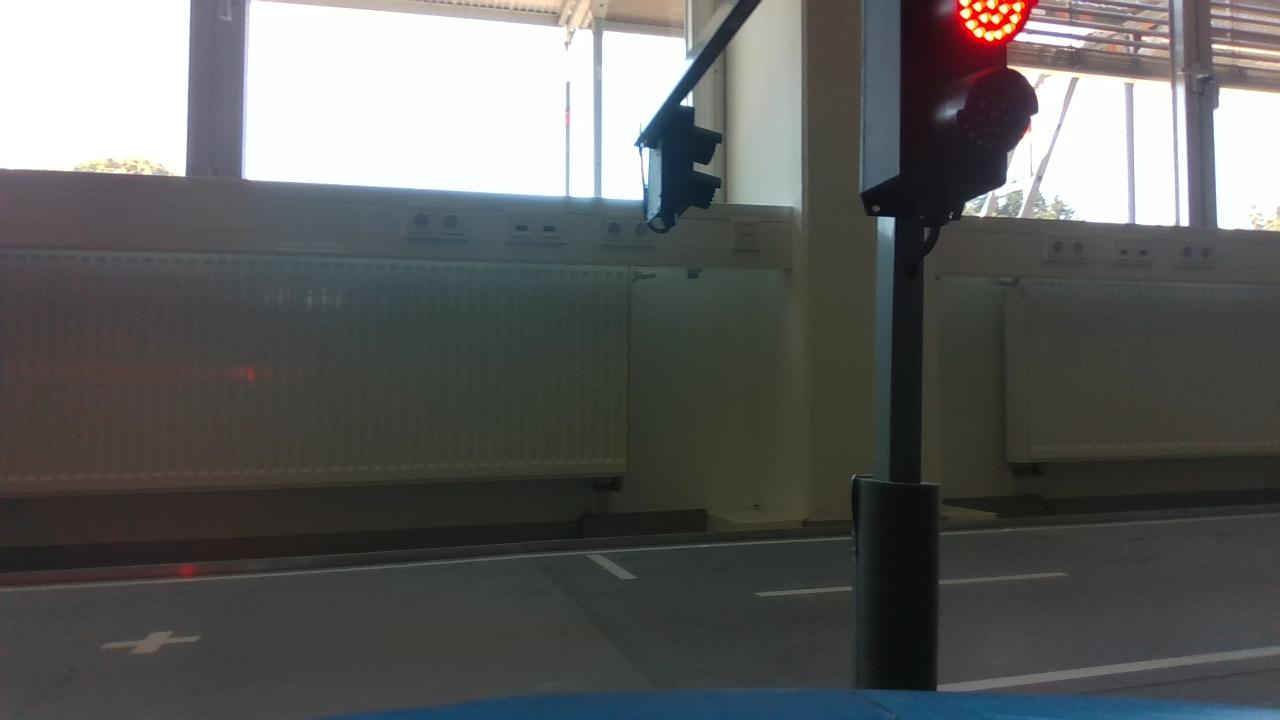traffic_light_red: (860, 1, 1048, 267)
